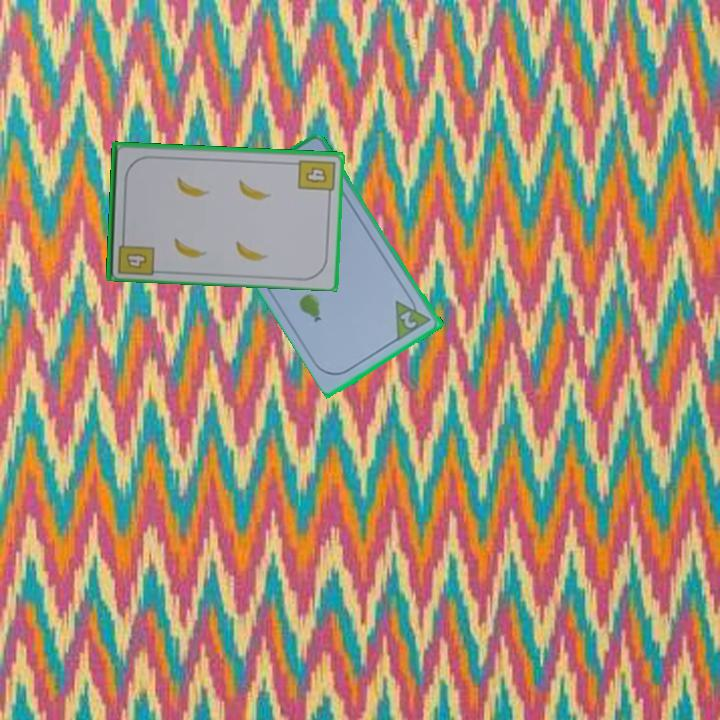2p: (397, 307, 420, 332)
4b: (114, 232, 156, 278), (294, 156, 337, 200)
